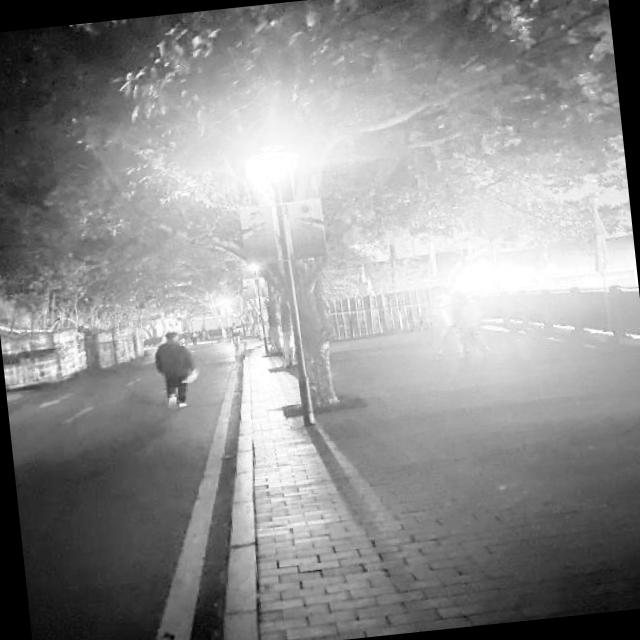Light: (245, 131, 306, 182), (459, 261, 504, 295)
Tree: (175, 0, 453, 429)
